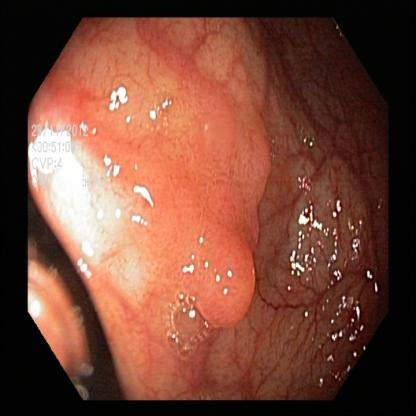Labels: (26, 119, 110, 197)
Polyps: (291, 175, 384, 371), (156, 68, 276, 204), (181, 208, 261, 332)
